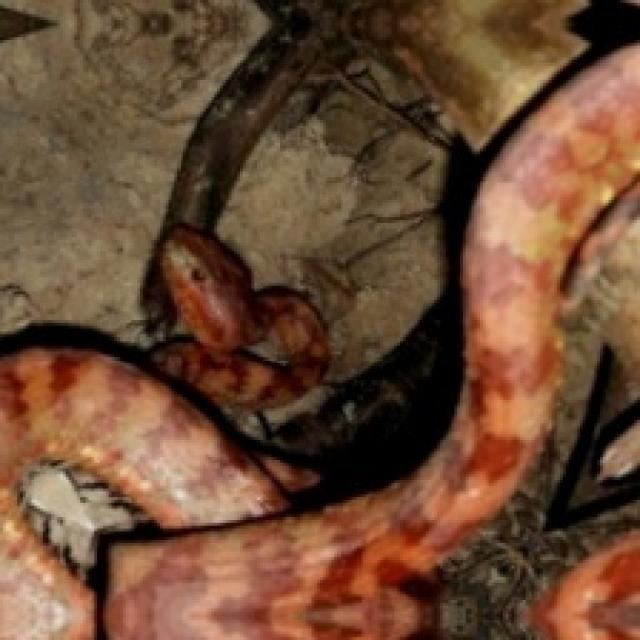philippine pitviper: (108, 45, 640, 640), (0, 349, 306, 637), (152, 225, 330, 409), (531, 532, 640, 640)
